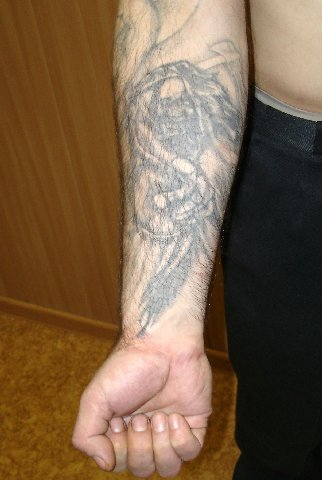tatu7_zmeya: (116, 48, 246, 337)
